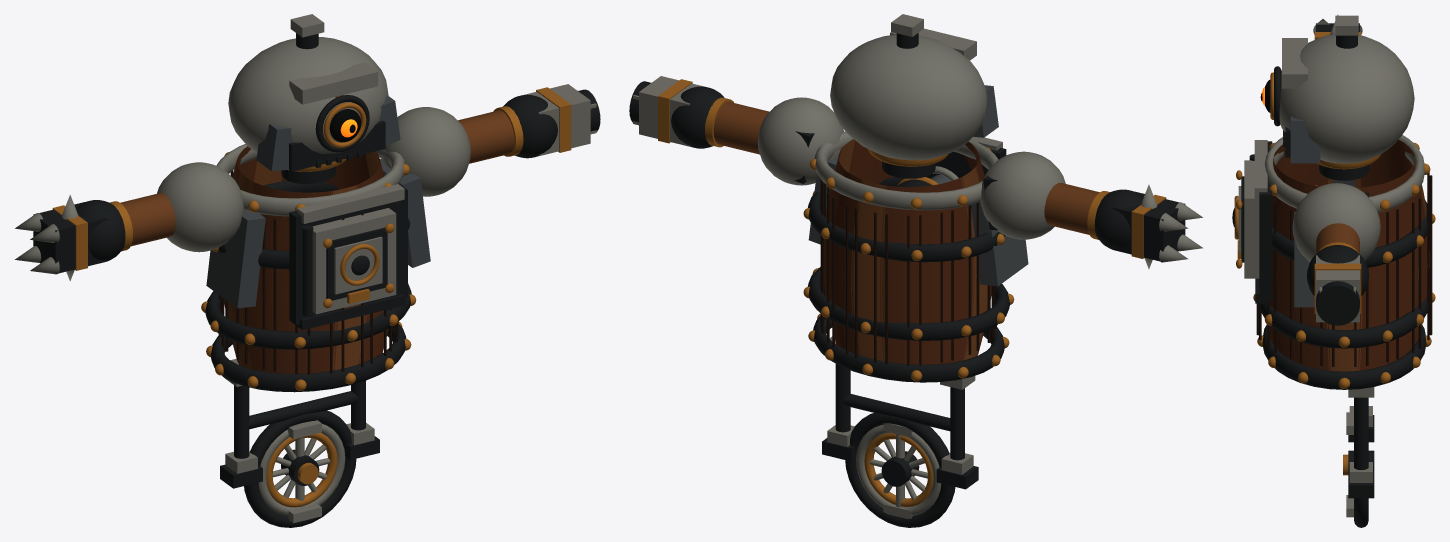
The model's file is ClockworkGolem.dae.
3 renders of one model, left to right at view 1: azimuth 30°, elevation 25°; view 2: azimuth 150°, elevation 25°; view 3: azimuth 270°, elevation 25°, orthographic. The views are drawn at different scales.
Parts seen in each view (by area): view 1: HelmetShell, ShoulderBoss_-1, ShoulderBoss_1, ArmShaft (×2), WeaponSocket (×2), IronHoop_1, SideChestArmor_-1, ChestDoorPlate, IronHoop_2, ChestMountPlate, MainWheelTire, WoodStave_15 (+26 smaller); view 2: HelmetShell, ShoulderBoss_-1, ShoulderBoss_1, ArmShaft (×2), WoodStave_10, WeaponSocket (×2), IronHoop_4, WoodStave_11, IronHoop_1, IronHoop_2, WoodStave_09, IronHoop_3 (+19 smaller); view 3: HelmetShell, ShoulderBoss_1, IronHoop_1, IronHoop_2, WoodStave_06, WoodStave_07, WoodStave_03, IronHoop_4, WoodGrain_0 (×4), ChestDoorPlate, ChestMountPlate, HammerFaceOuter (+29 smaller).
Part boxes in pixels (bbox=[...]): HelmetShell: bbox=[228, 37, 388, 153]; ShoulderBoss_-1: bbox=[157, 162, 243, 252]; ShoulderBoss_1: bbox=[382, 107, 470, 196]; ArmShaft (×2): bbox=[120, 110, 514, 246]; WeaponSocket (×2): bbox=[76, 94, 557, 261]; IronHoop_1: bbox=[210, 324, 406, 392]; SideChestArmor_-1: bbox=[206, 210, 265, 308]; ChestDoorPlate: bbox=[312, 208, 396, 314]; IronHoop_2: bbox=[205, 283, 411, 349]; ChestMountPlate: bbox=[289, 185, 407, 324]; MainWheelTire: bbox=[244, 410, 356, 527]; WoodStave_15: bbox=[268, 189, 304, 373]; HelmetShell: bbox=[830, 34, 987, 160]; ShoulderBoss_-1: bbox=[980, 151, 1065, 239]; ShoulderBoss_1: bbox=[757, 97, 843, 185]; ArmShaft (×2): bbox=[713, 102, 1099, 234]; WoodStave_10: bbox=[880, 185, 915, 364]; WeaponSocket (×2): bbox=[671, 86, 1143, 249]; IronHoop_4: bbox=[814, 131, 998, 210]; WoodStave_11: bbox=[912, 184, 948, 364]; IronHoop_1: bbox=[813, 316, 1004, 382]; IronHoop_2: bbox=[807, 267, 1009, 340]; WoodStave_09: bbox=[851, 180, 886, 360]; IronHoop_3: bbox=[808, 176, 1005, 262]; HelmetShell: bbox=[1279, 34, 1414, 163]; ShoulderBoss_1: bbox=[1292, 183, 1380, 261]; IronHoop_1: bbox=[1262, 325, 1426, 389]; IronHoop_2: bbox=[1260, 297, 1429, 348]; WoodStave_06: bbox=[1357, 183, 1393, 370]; WoodStave_07: bbox=[1383, 175, 1417, 365]; WoodStave_03: bbox=[1272, 175, 1305, 365]; IronHoop_4: bbox=[1265, 135, 1424, 213]; WoodGrain_0 (×4): bbox=[1274, 184, 1432, 359]; ChestDoorPlate: bbox=[1244, 160, 1259, 278]; ChestMountPlate: bbox=[1259, 141, 1272, 300]; HammerFaceOuter: bbox=[1316, 281, 1359, 325].
Bounding box in the file's own units: 4.95 × 4.26 × 1.56.
